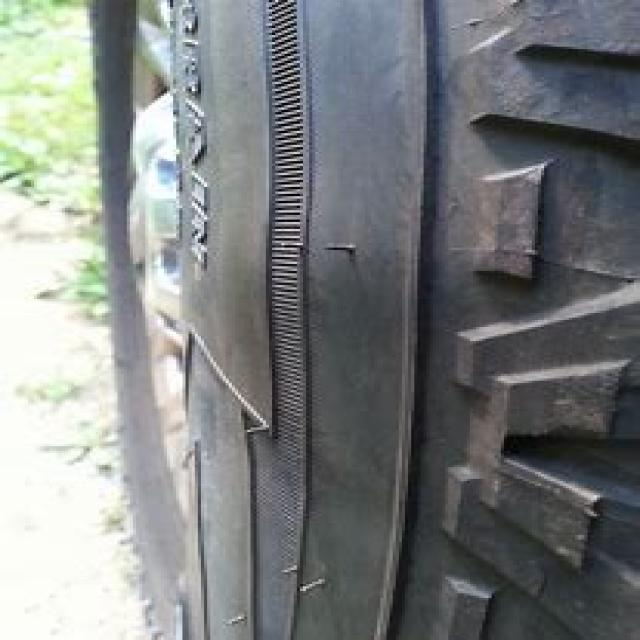Bulge: (208, 174, 398, 370)
